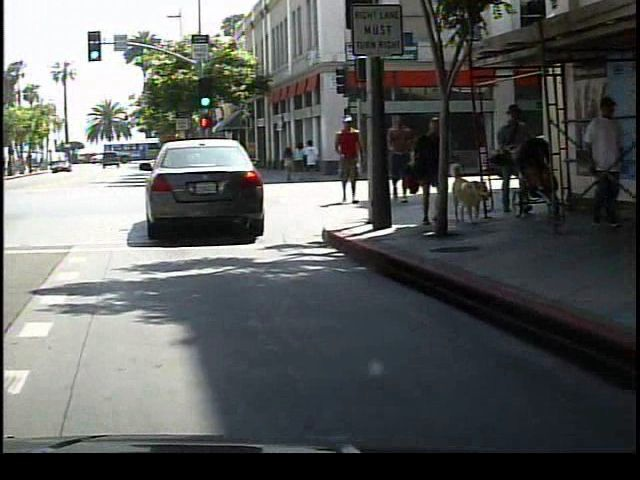person: (333, 112, 373, 208), (385, 109, 411, 206)
